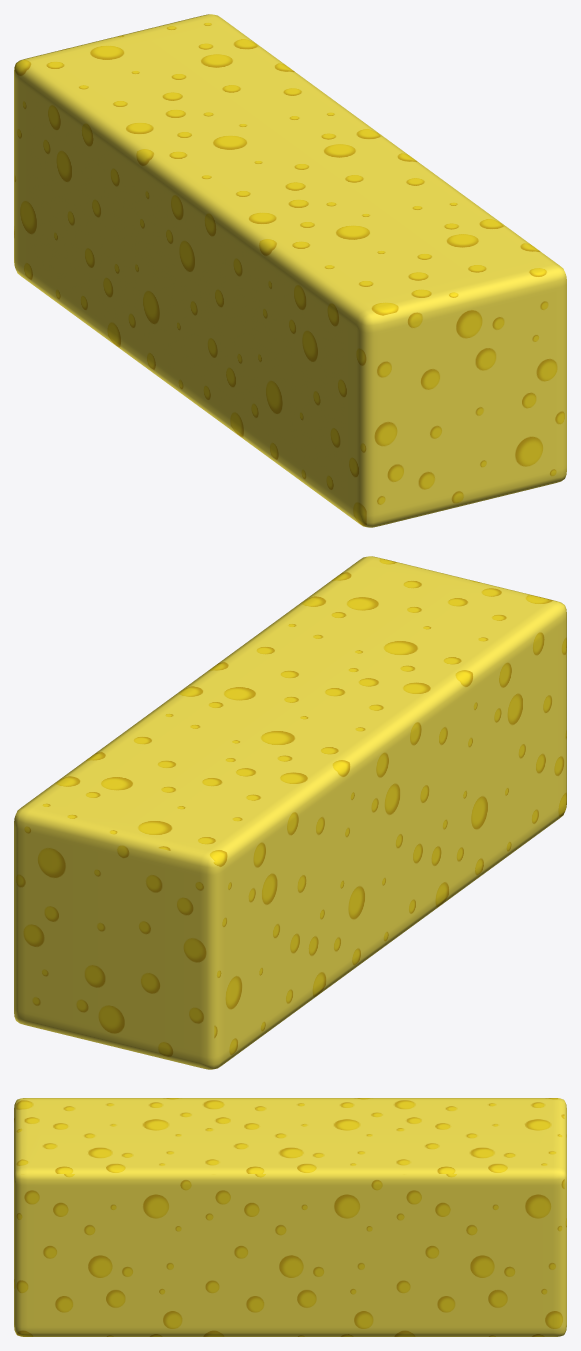
Rendered from new 2 top.fbx.
3 renders of one model, top to bottom at view 1: azimuth 30°, elevation 25°; view 2: azimuth 150°, elevation 25°; view 3: azimuth 270°, elevation 25°, orthographic. The views are drawn at different scales.
Visible parts, largest first — view 1: Cheese; view 2: Cheese; view 3: Cheese.
Part boxes in pixels (x1,y1,x2,y2): Cheese: [14, 14, 566, 527]; Cheese: [14, 556, 566, 1069]; Cheese: [14, 1098, 566, 1336].
Size of the model in its own units: 20000 by 20000 by 60000.
